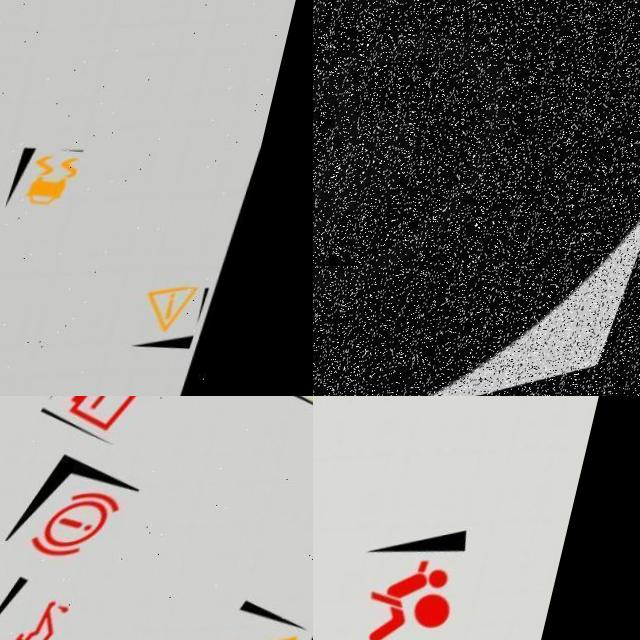Electronic Power Steering: (313, 0, 640, 350)
